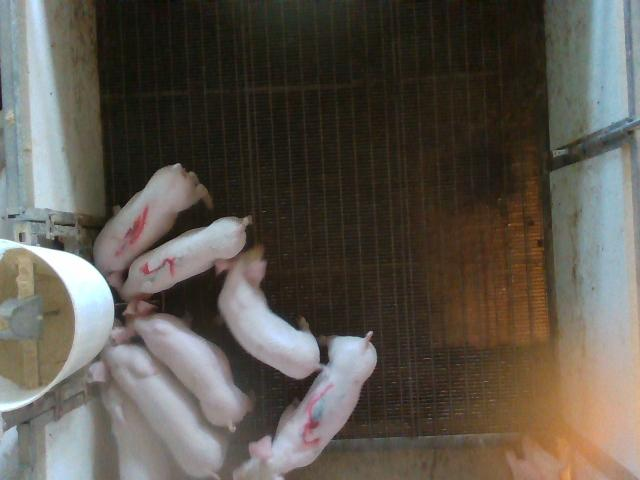pig-1: (95, 164, 211, 292)
pig-3: (234, 331, 376, 479)
pig-5: (121, 217, 251, 301)
